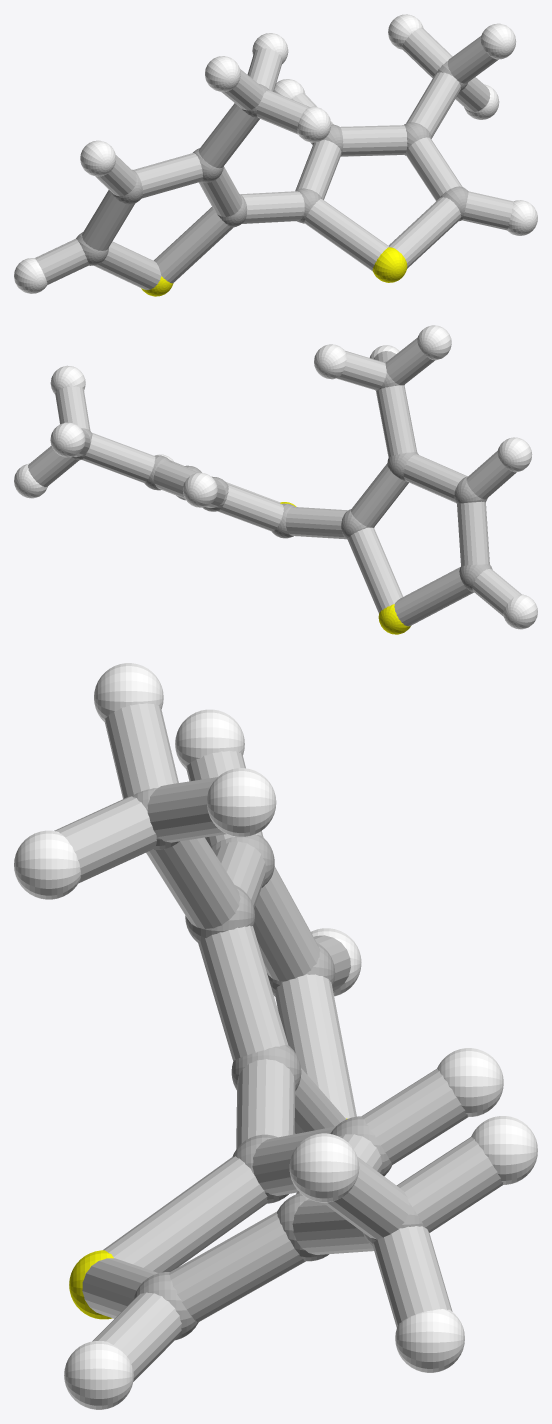
The model's file is Methylthiophene_Phi_15_Theta_100_Methylthiophene.glb.
3 views of the same model, one above another, from view 1: azimuth 30°, elevation 25°; view 2: azimuth 150°, elevation 25°; view 3: azimuth 270°, elevation 25° (orthographic). The views are drawn at different scales.
Parts seen in each view (by area): view 1: grp7965, grp3621, grp1, grp7241; view 2: grp7965, grp3621, grp1, grp7241; view 3: grp7965, grp3621, grp1, grp7241.
Part boxes in pixels (x1=…): grp7965: x1=35, y1=27, x2=513, y2=289; grp3621: x1=14, y1=14, x2=537, y2=293; grp1: x1=76, y1=61, x2=468, y2=265; grp7241: x1=141, y1=247, x2=407, y2=296; grp7965: x1=28, y1=338, x2=521, y2=626; grp3621: x1=14, y1=325, x2=537, y2=629; grp1: x1=72, y1=361, x2=492, y2=592; grp7241: x1=280, y1=502, x2=410, y2=634; grp7965: x1=54, y1=703, x2=503, y2=1381; grp3621: x1=14, y1=663, x2=537, y2=1409; grp1: x1=131, y1=788, x2=424, y2=1340; grp7241: x1=69, y1=1118, x2=347, y2=1319.
Size of the model in its own units: 9.74 by 5 by 4.5.
